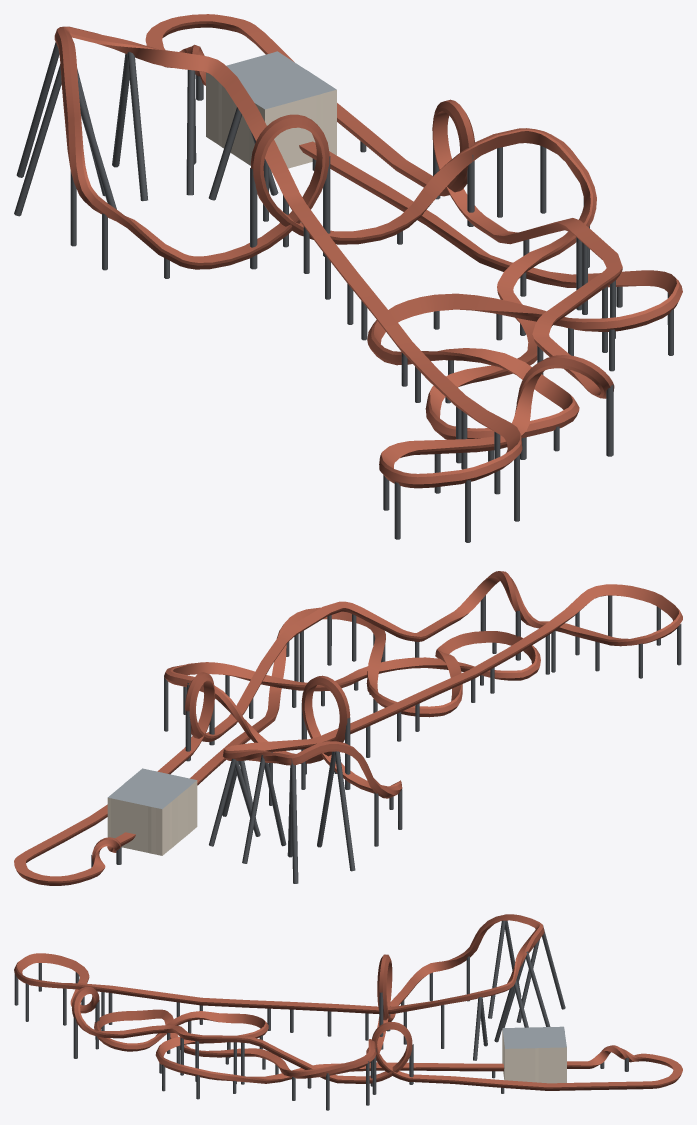
3 views of the same model, one above another, from view 1: azimuth 30°, elevation 25°; view 2: azimuth 150°, elevation 25°; view 3: azimuth 270°, elevation 25° (orthographic). The views are drawn at different scales.
Visible parts, largest first — view 1: copperhead-strike-carowinds; view 2: copperhead-strike-carowinds; view 3: copperhead-strike-carowinds.
Boxes of the visible parts, x1,y1,x2,y2 form: copperhead-strike-carowinds: (14,14,682,542); copperhead-strike-carowinds: (14,571,682,885); copperhead-strike-carowinds: (14,914,682,1110).
Size of the model in its own units: 77.17 by 28.71 by 175.
